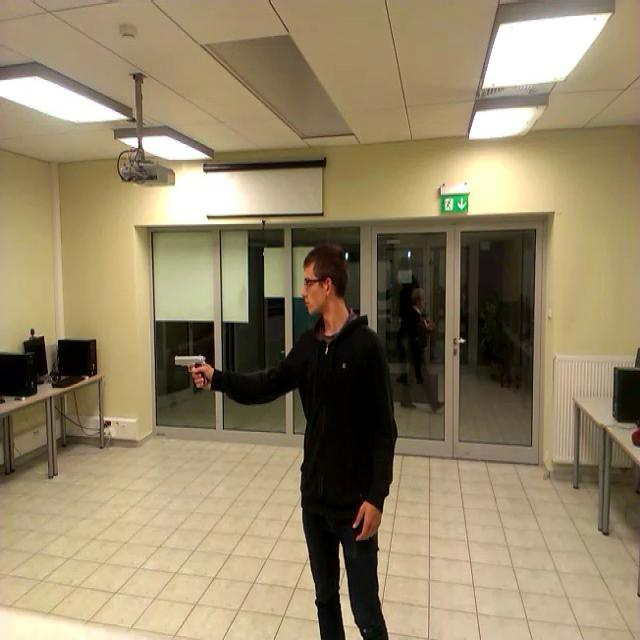weapon: (170, 355, 208, 391)
